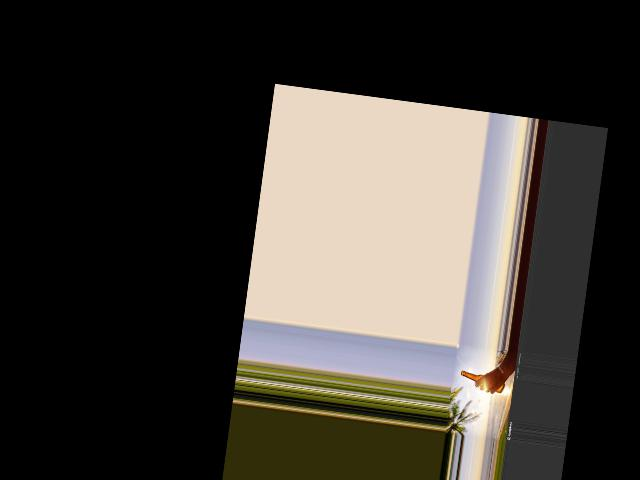beer: (459, 369, 506, 393)
